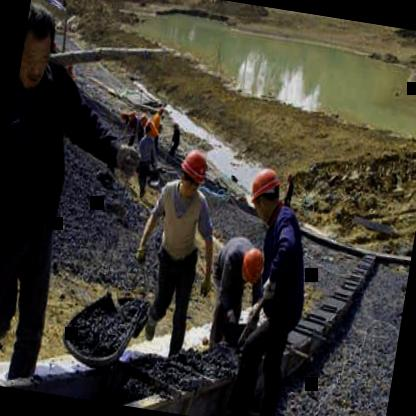head: (13, 0, 64, 112)
helmet: (245, 164, 285, 220), (176, 148, 212, 198), (236, 242, 266, 292)
